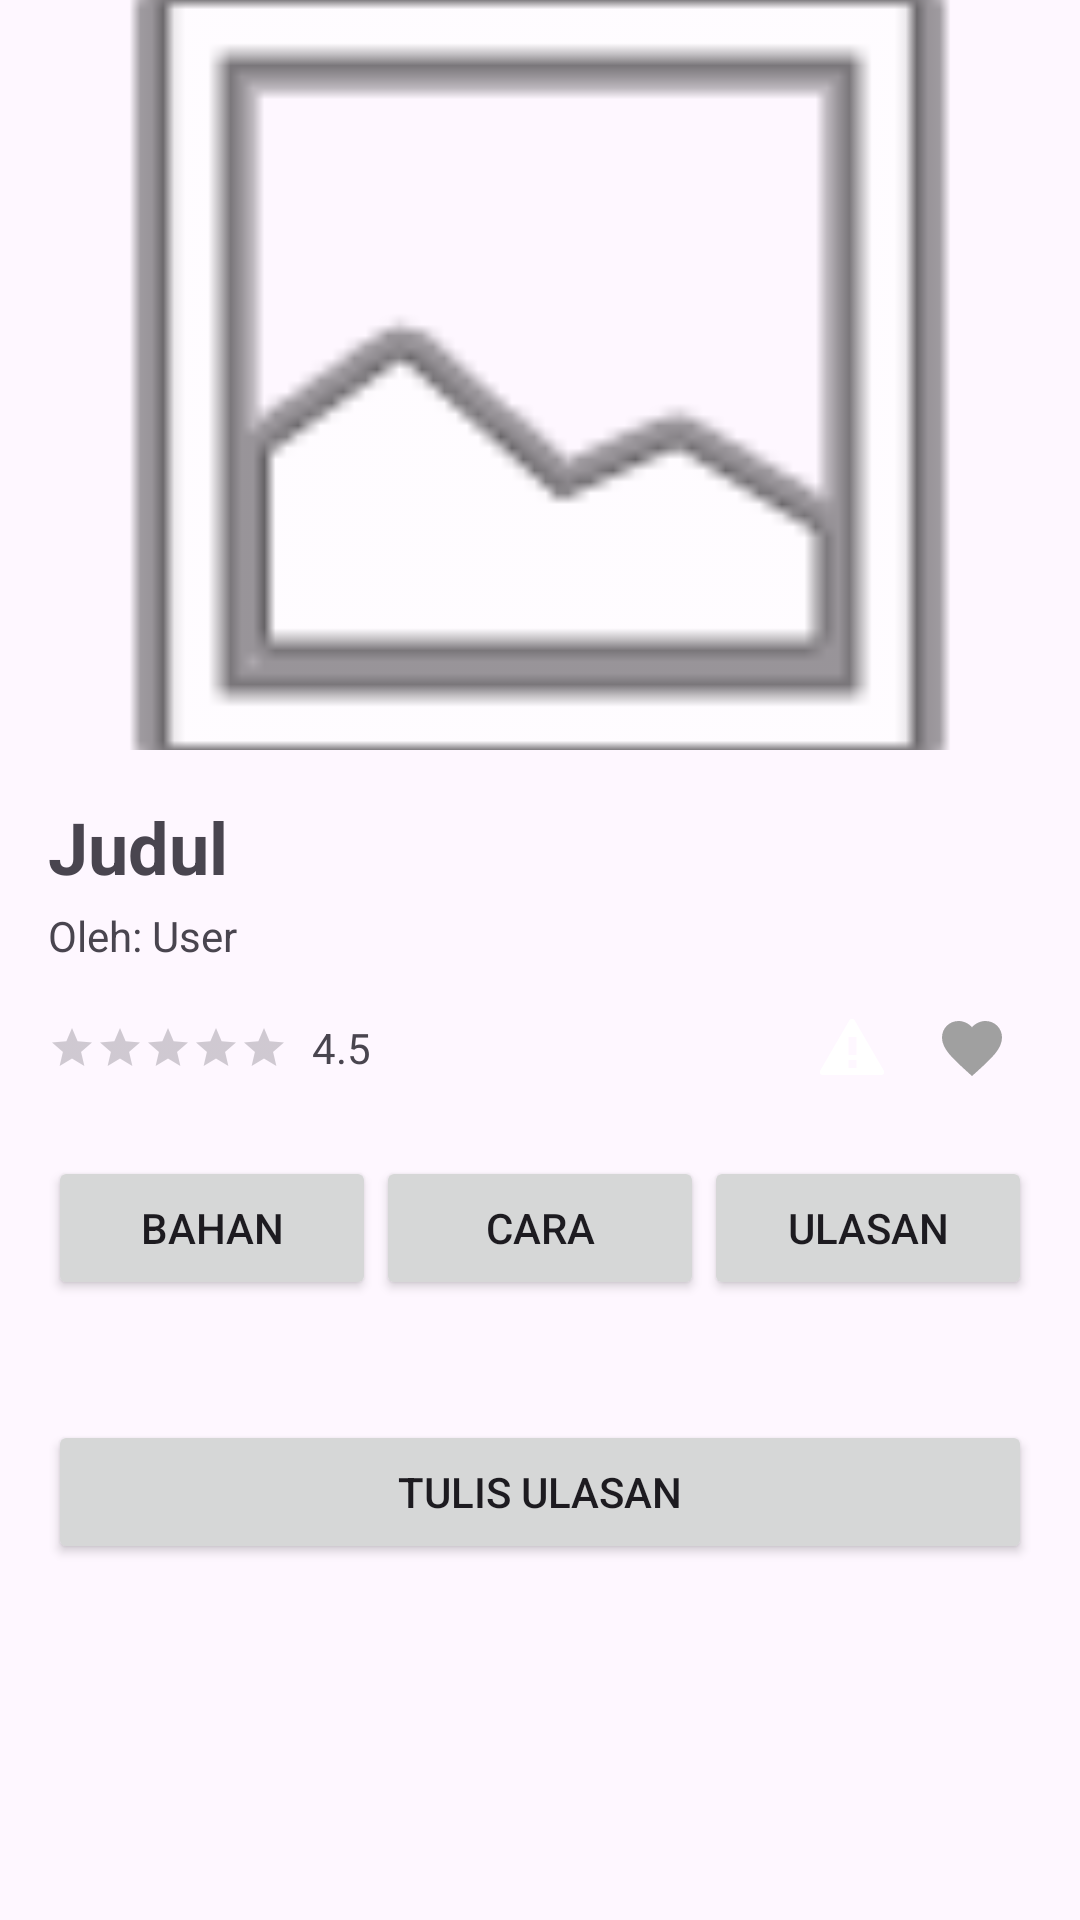

Icon click points for this 1080*1920 phone screenshot, format [x,y]:
heart: [972,1048]
